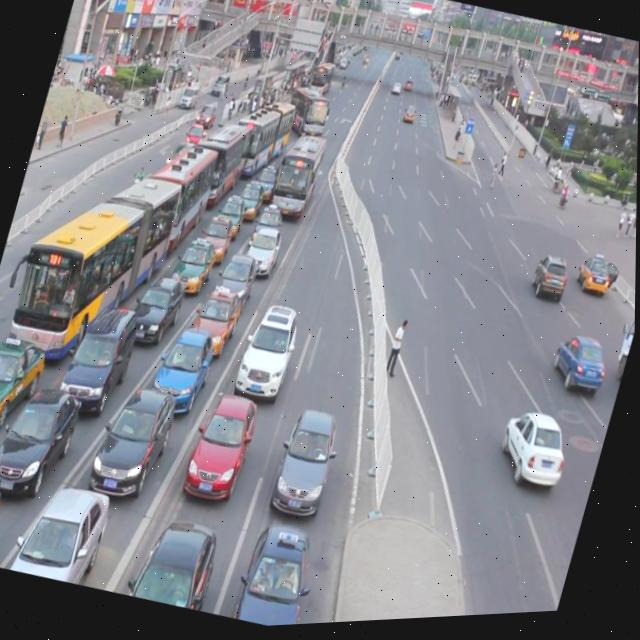bus: (606, 311, 636, 390)
car: (9, 470, 116, 591), (90, 375, 183, 501), (0, 374, 87, 497), (232, 519, 325, 630), (59, 293, 145, 413), (128, 510, 225, 616), (270, 404, 348, 518), (185, 389, 263, 499), (491, 406, 577, 499), (235, 298, 306, 401), (152, 319, 220, 411), (0, 324, 49, 434), (129, 265, 190, 346), (547, 334, 613, 405), (187, 281, 246, 357), (212, 249, 262, 314), (172, 233, 222, 295), (572, 254, 622, 306), (528, 256, 572, 309), (197, 208, 238, 262), (246, 223, 286, 276), (252, 198, 287, 248), (214, 191, 250, 238), (236, 175, 268, 219), (251, 159, 284, 201), (183, 122, 207, 151), (195, 104, 219, 133)
van: (0, 146, 186, 378), (131, 130, 223, 257), (229, 87, 299, 179), (190, 113, 252, 208), (267, 132, 328, 224), (281, 86, 334, 145)
